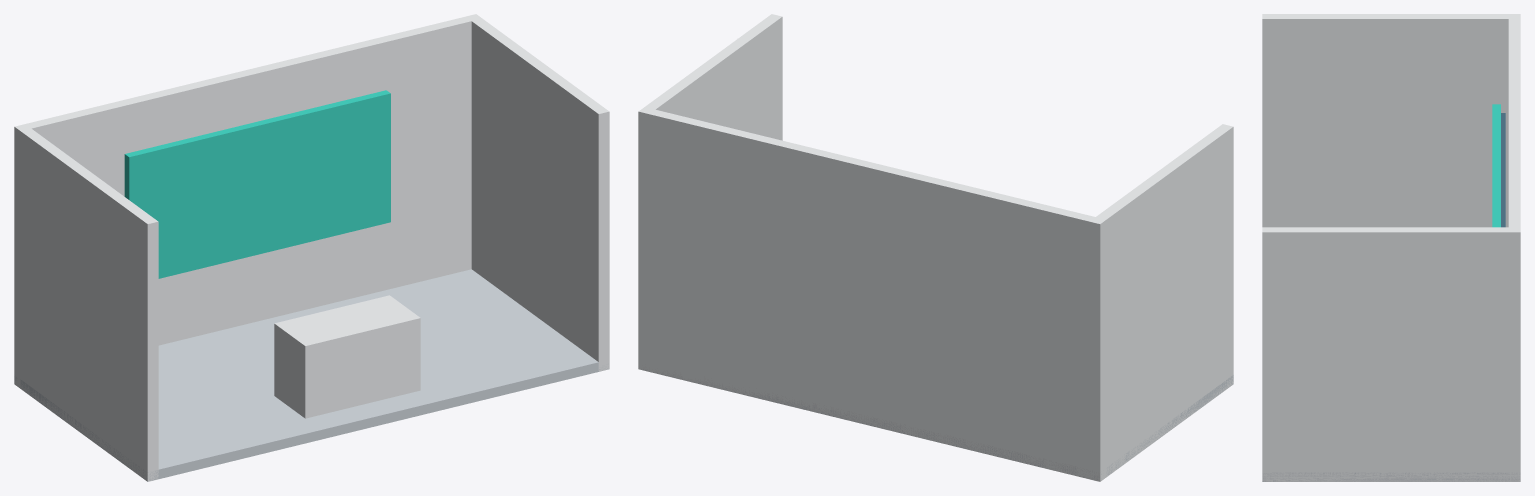
3 views of the same model, side by side, from view 1: azimuth 30°, elevation 25°; view 2: azimuth 150°, elevation 25°; view 3: azimuth 270°, elevation 25° (orthographic). The views are drawn at different scales.
Parts seen in each view (by area): view 1: Exhibition Booth Concept; view 2: Exhibition Booth Concept; view 3: Exhibition Booth Concept.
Boxes of the visible parts, x1,y1,x2,y2 form: Exhibition Booth Concept: (14,14,609,481); Exhibition Booth Concept: (638,14,1233,481); Exhibition Booth Concept: (1262,14,1520,481).
Size of the model in its own units: 6 by 3.2 by 3.
